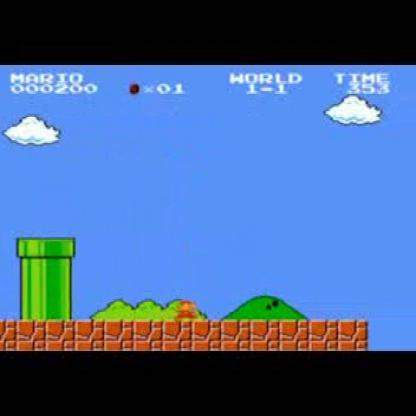Hoyo: (362, 315, 414, 351)
